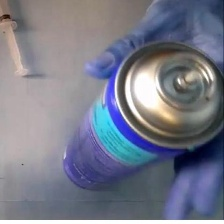aerosol_cans: (56, 35, 224, 197)
